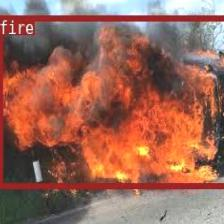fire: (0, 14, 224, 187)
